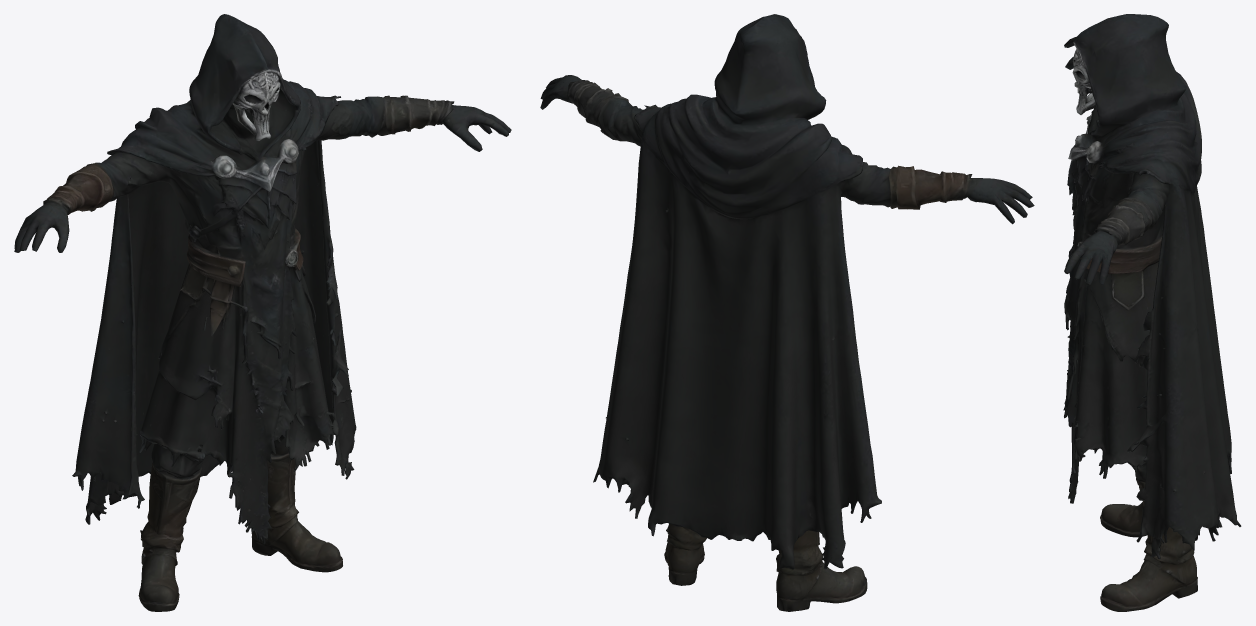
File: dark wizard 3d model.glb
3 views of the same model, side by side, from view 1: azimuth 30°, elevation 25°; view 2: azimuth 150°, elevation 25°; view 3: azimuth 270°, elevation 25° (orthographic).
Parts seen in each view (by area): view 1: tripo_node_20e96b0e-1938-447e-848d-ed5ed8d654be; view 2: tripo_node_20e96b0e-1938-447e-848d-ed5ed8d654be; view 3: tripo_node_20e96b0e-1938-447e-848d-ed5ed8d654be.
Part boxes in pixels (x1,y1,x2,y2): tripo_node_20e96b0e-1938-447e-848d-ed5ed8d654be: (14,14,511,611); tripo_node_20e96b0e-1938-447e-848d-ed5ed8d654be: (540,14,1034,611); tripo_node_20e96b0e-1938-447e-848d-ed5ed8d654be: (1063,14,1241,611).
Size of the model in its own units: 0.8951 by 0.9785 by 0.2861.
1 material, 1 textured.
